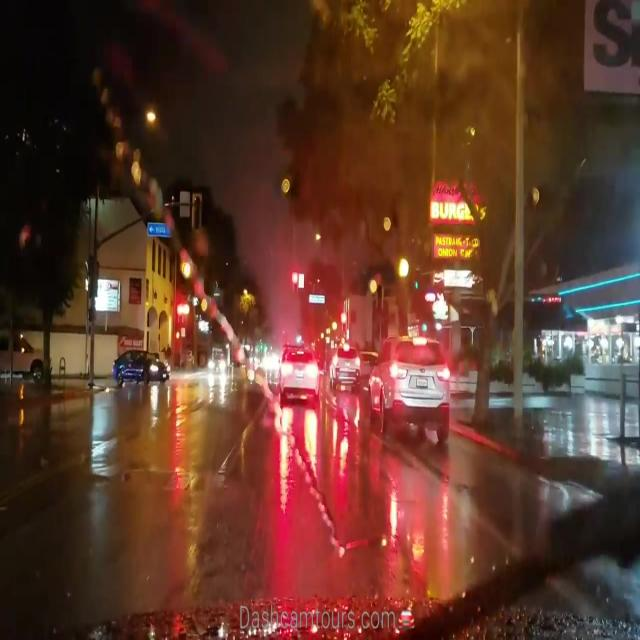Car: (367, 336, 450, 443), (278, 343, 319, 398), (112, 345, 169, 383), (327, 343, 358, 391)
